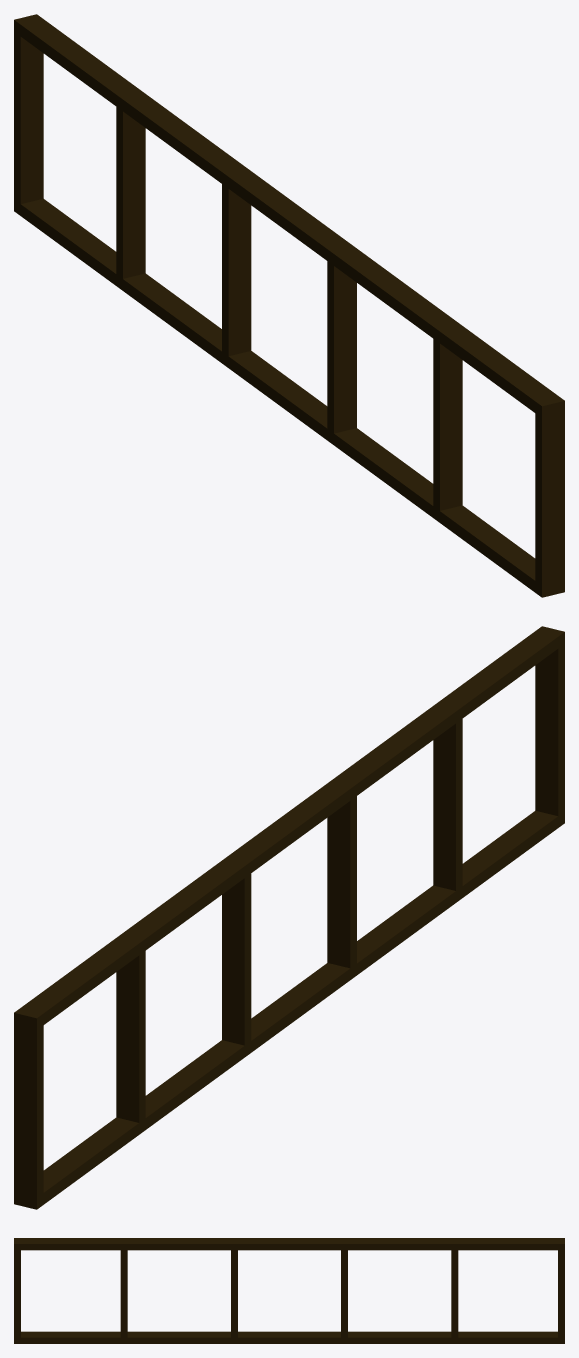
The model's file is 5 SW Frame.fbx.
3 views of the same model, one above another, from view 1: azimuth 30°, elevation 25°; view 2: azimuth 150°, elevation 25°; view 3: azimuth 270°, elevation 25° (orthographic). The views are drawn at different scales.
Visible parts, largest first — view 1: 5SCC frame; view 2: 5SCC frame; view 3: 5SCC frame.
Part boxes in pixels (x1,y1,x2,y2): 5SCC frame: (14,14,564,597); 5SCC frame: (14,626,564,1209); 5SCC frame: (14,1238,564,1343).
Bounding box in the file's own units: 100 × 800 × 4000.
